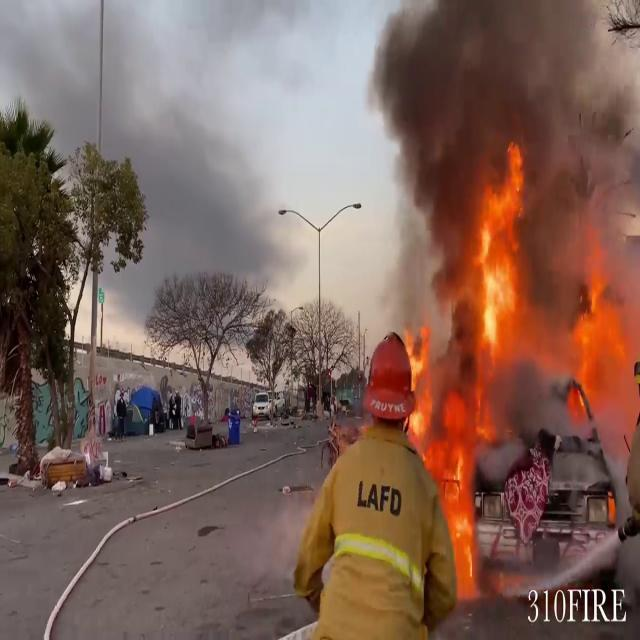Fire: (404, 326, 432, 436)
Smoke: (361, 0, 640, 308)
